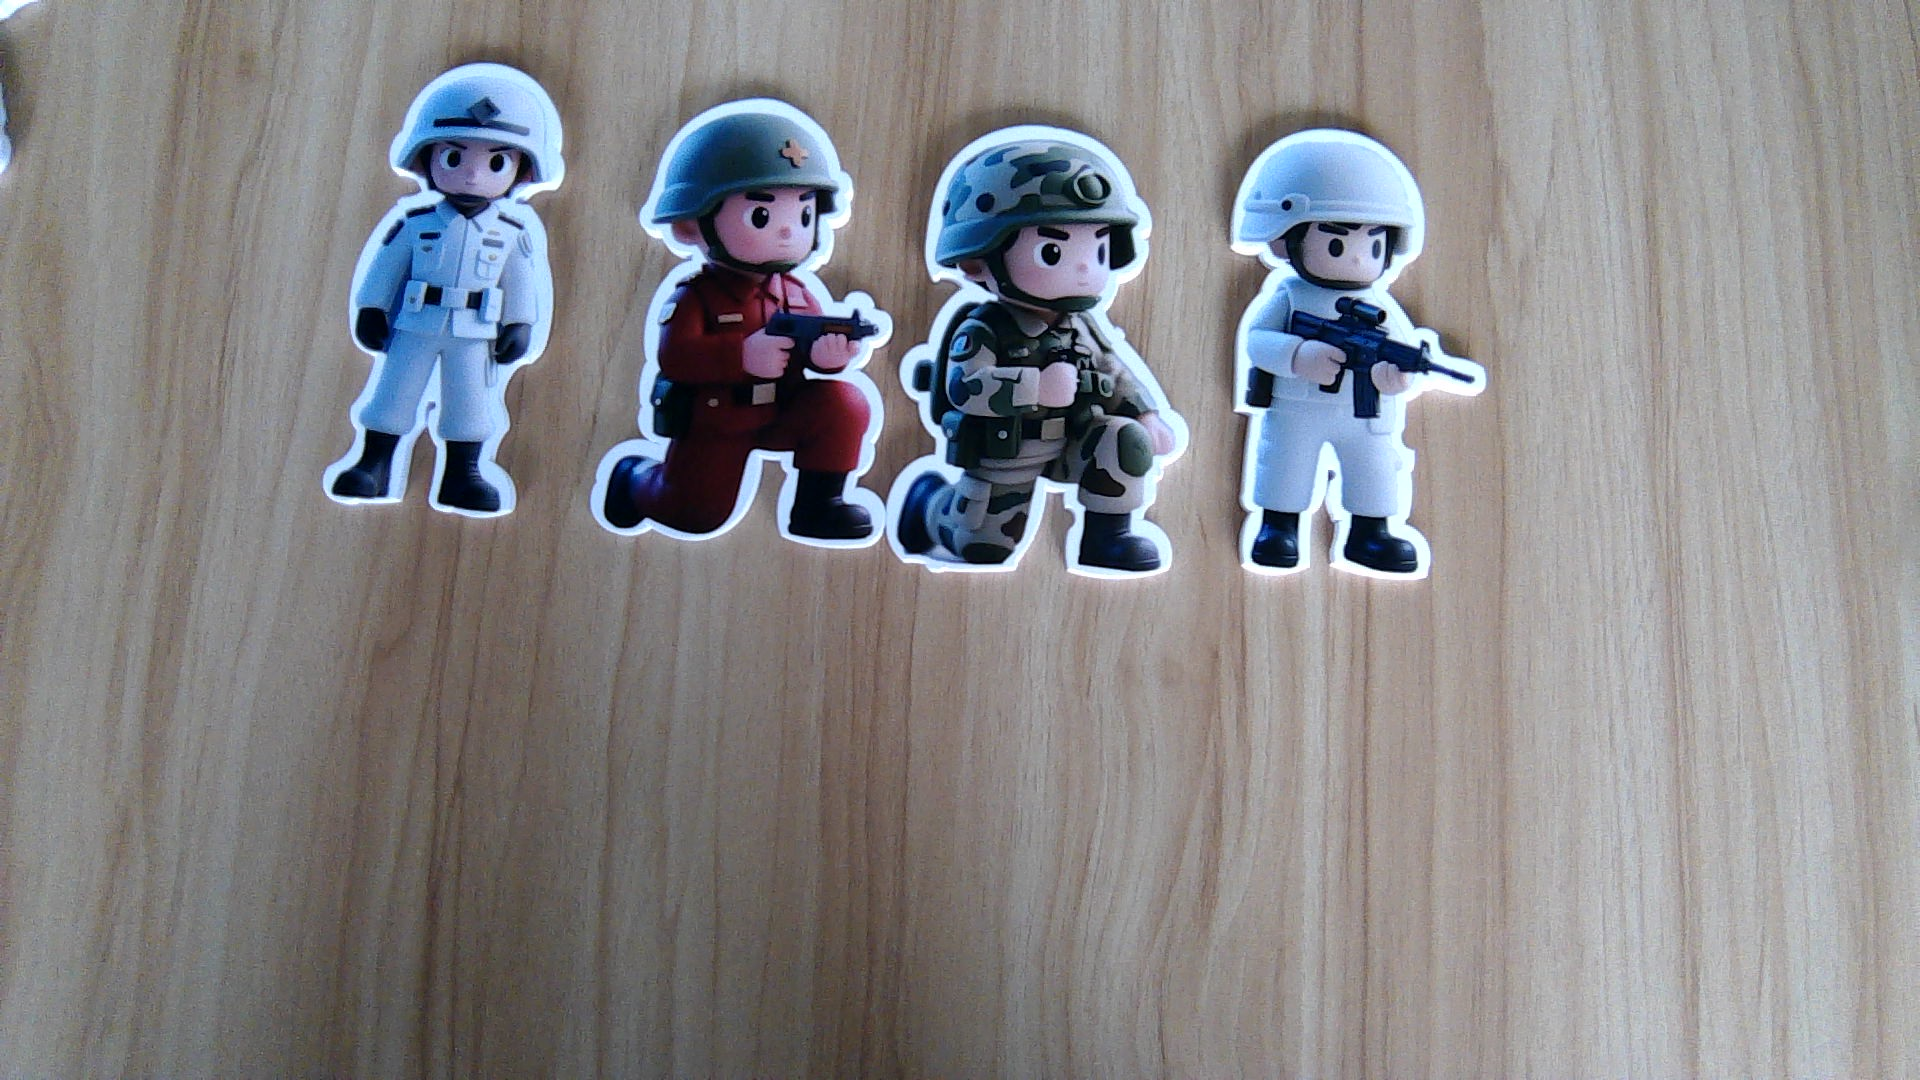人质: (1220, 282, 1484, 591), (314, 200, 560, 520)
友军: (887, 303, 1187, 576)
敌人1: (587, 270, 881, 553)
